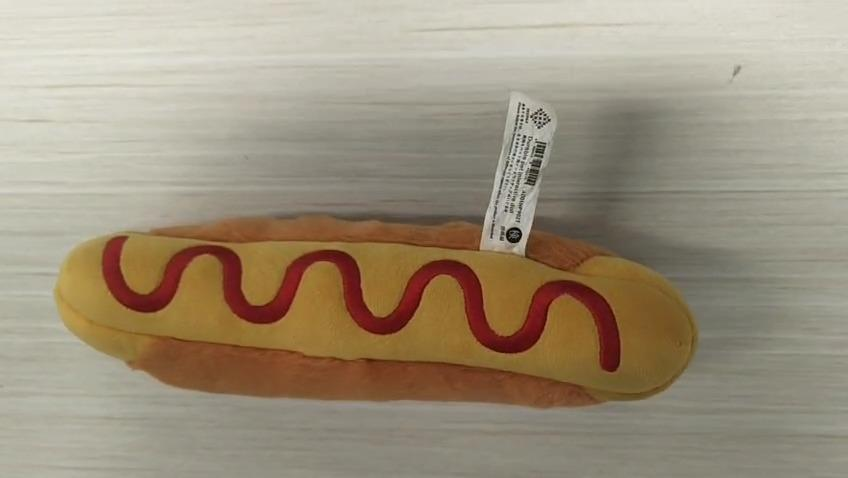hotdog: (53, 212, 698, 408)
